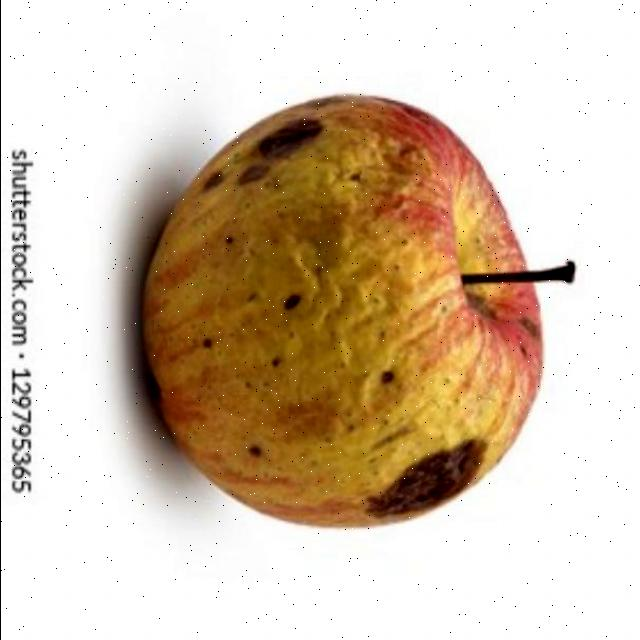ROT: (146, 70, 575, 552)
